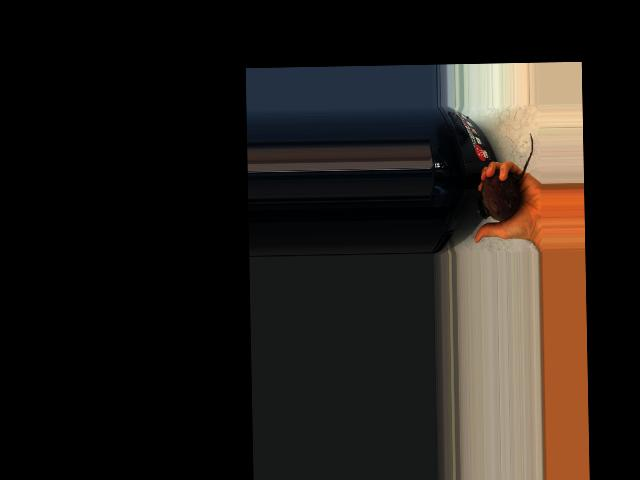beet: (476, 132, 535, 220)
